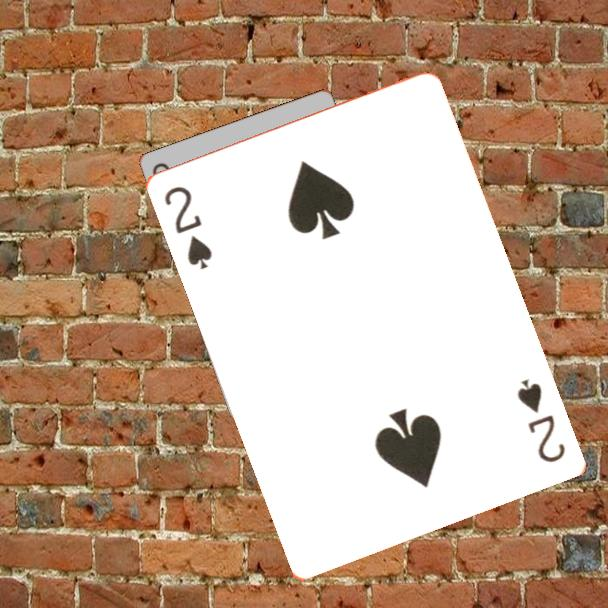s02: (160, 182, 215, 273), (513, 375, 568, 466)
